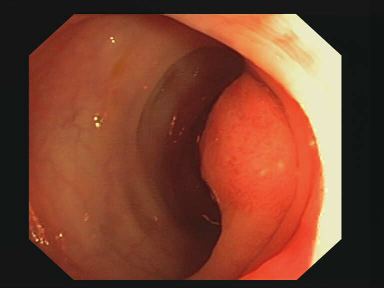polyp: (165, 66, 317, 224)
